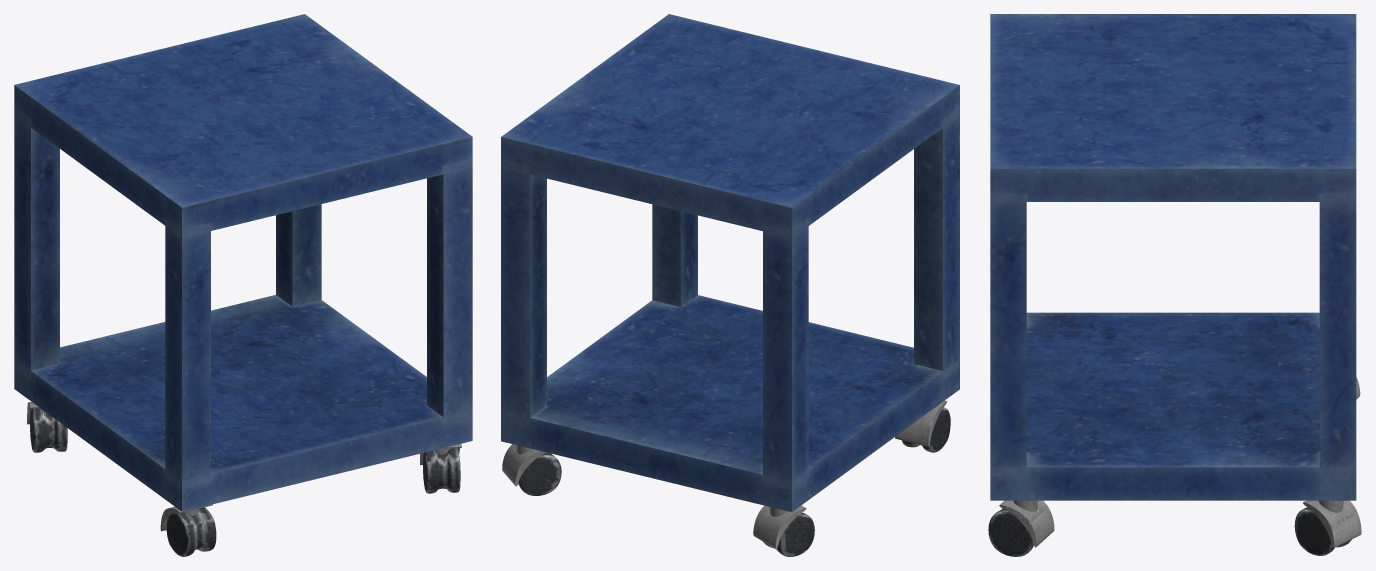
Rendered from tumb2.fbx.
The picture shows the model from 3 angles, left to right: view 1: azimuth 30°, elevation 25°; view 2: azimuth 150°, elevation 25°; view 3: azimuth 270°, elevation 25°; orthographic projection. The views are drawn at different scales.
Parts seen in each view (by area): view 1: Cube; view 2: Cube; view 3: Cube.
Part boxes in pixels (x1,y1,x2,y2): Cube: (14,14,472,556); Cube: (501,14,959,556); Cube: (988,14,1361,556).
Bounding box in the file's own units: 2070 × 2359 × 2038.
1 material, 1 textured.
